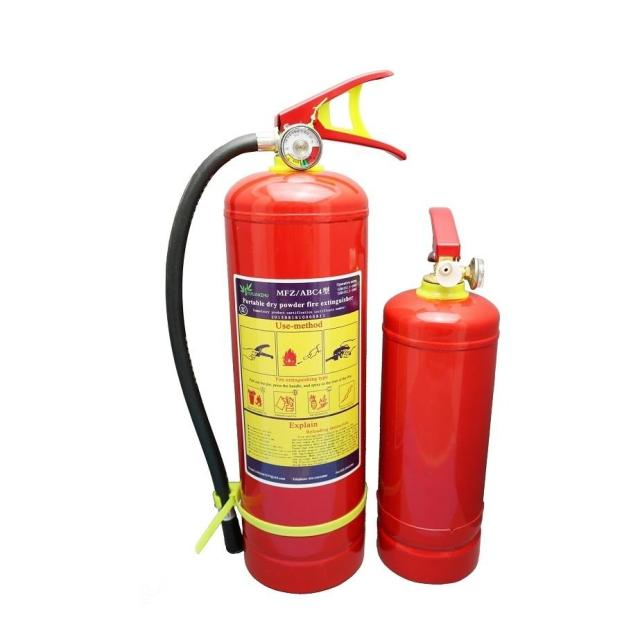fire_extinguisher: (158, 65, 409, 596), (371, 202, 503, 588)
